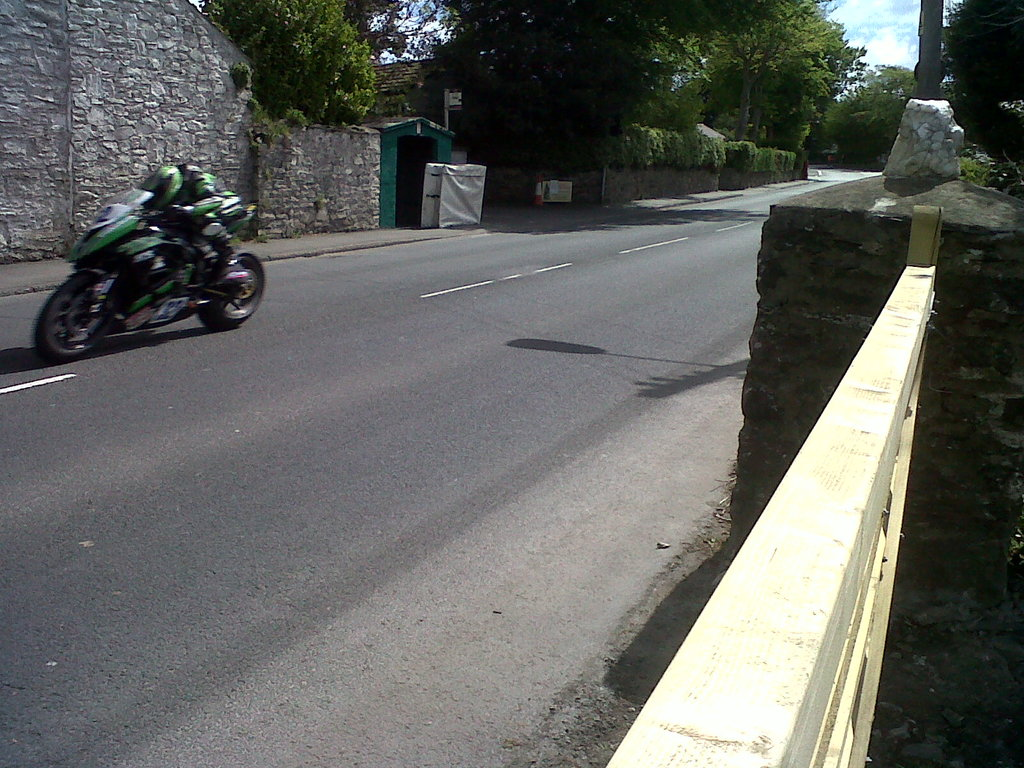Motorcycle: (35, 186, 268, 365)
